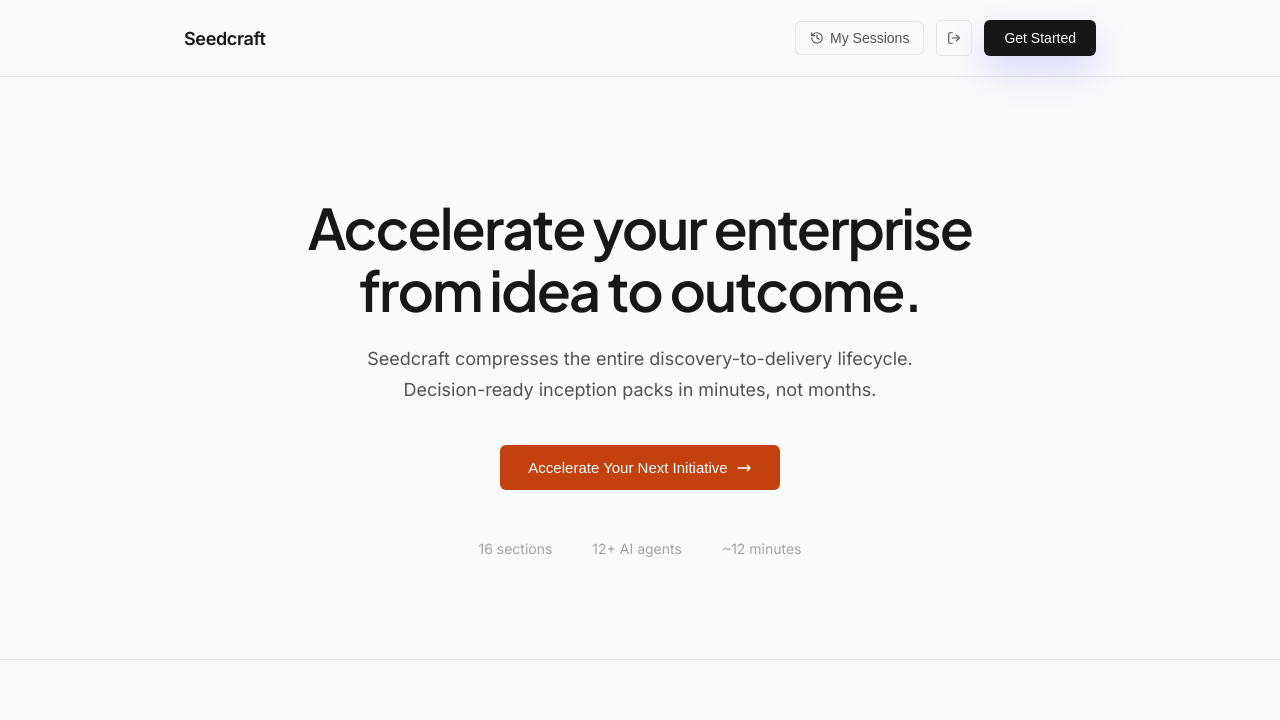
Test: App – Session History integration › navigates back to landing from sessions page
Click the button "My Sessions" at (860, 38), box x1=795 y1=21 x2=924 y2=55
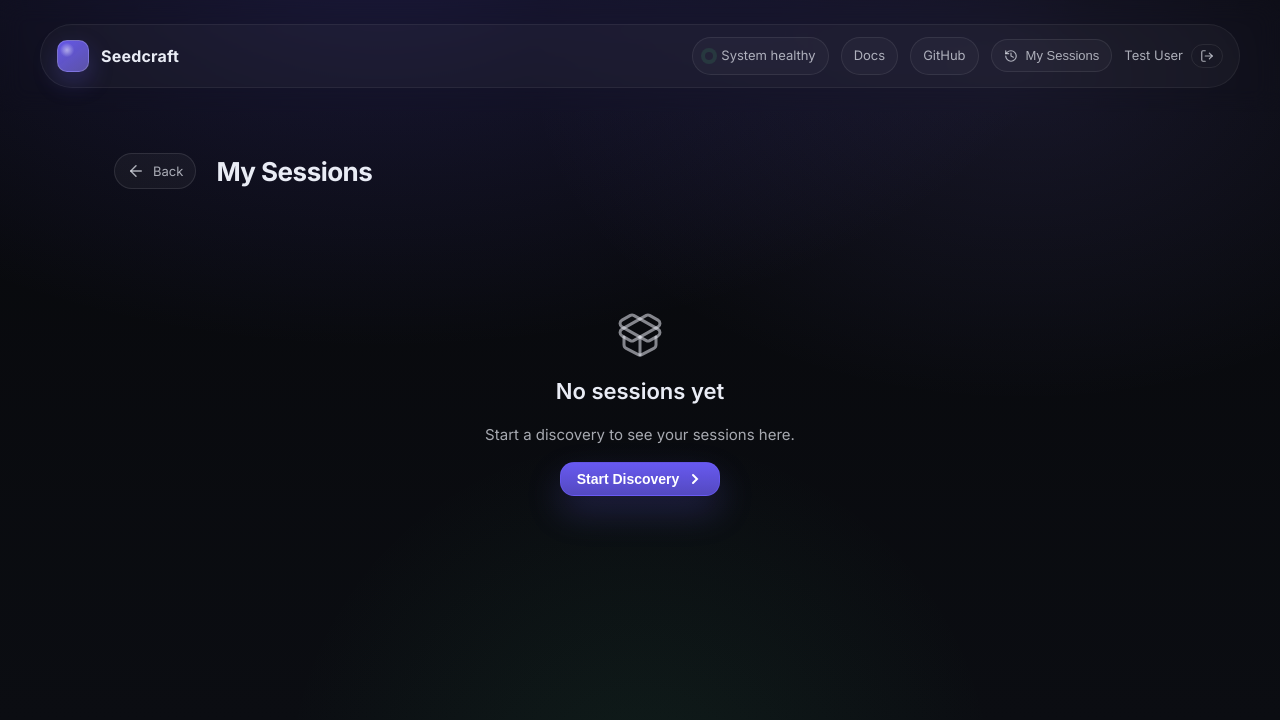
Result: the heading "No sessions yet" is shown at x1=556 y1=374 x2=724 y2=408
Click the button "Back" at (155, 171), box x1=114 y1=153 x2=196 y2=189
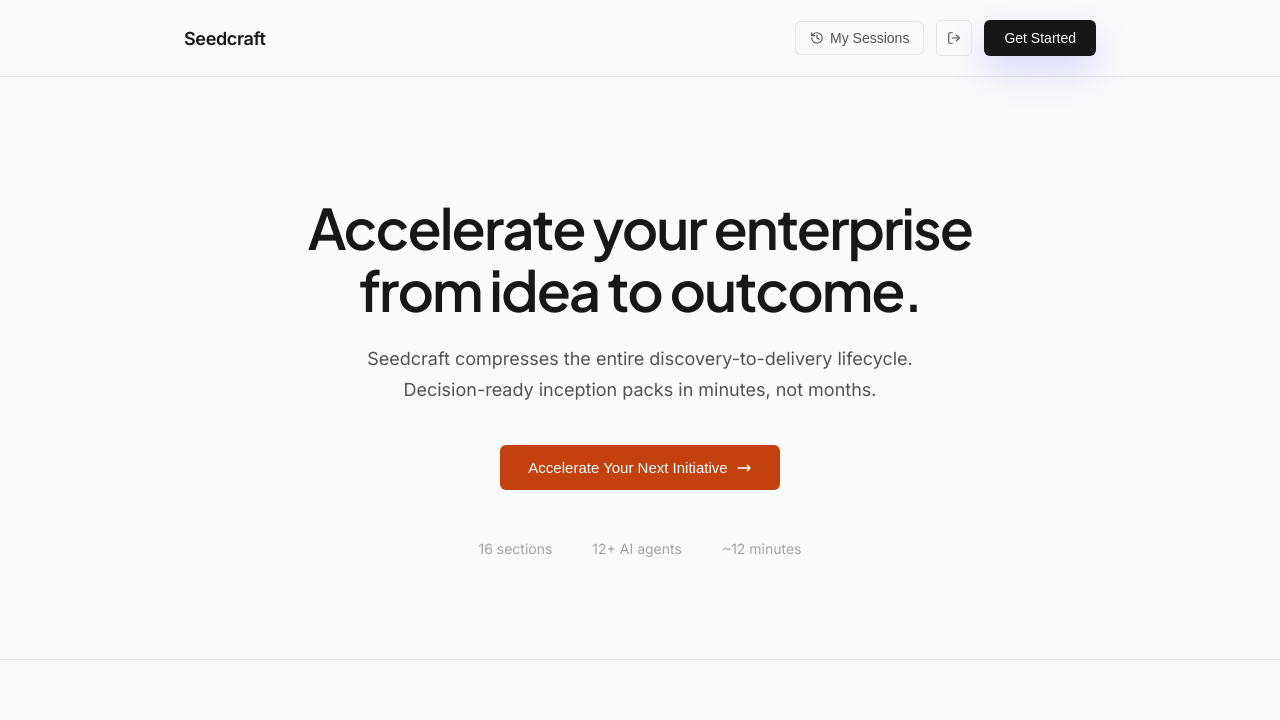
Expected: the button with class "btn-start" is shown, x1=984 y1=20 x2=1096 y2=56
Result: the heading "No sessions yet" is gone
